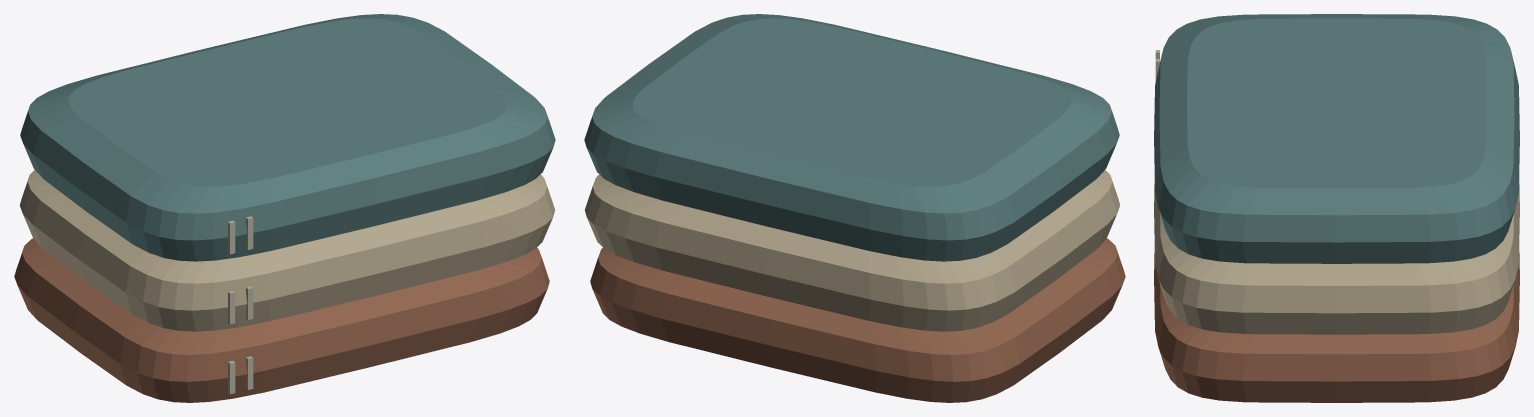
Rendered from W-09_folded_towels.glb.
The picture shows the model from 3 angles, left to right: view 1: azimuth 30°, elevation 25°; view 2: azimuth 150°, elevation 25°; view 3: azimuth 270°, elevation 25°; orthographic projection.
Visible parts, largest first — view 1: W-09_folded_towels; view 2: W-09_folded_towels; view 3: W-09_folded_towels.
Boxes of the visible parts, box(x1,y1,x2,y2) form: W-09_folded_towels: box(14, 14, 555, 402); W-09_folded_towels: box(584, 14, 1125, 402); W-09_folded_towels: box(1154, 14, 1519, 402).
Size of the model in its own units: 0.3305 by 0.156 by 0.243.
